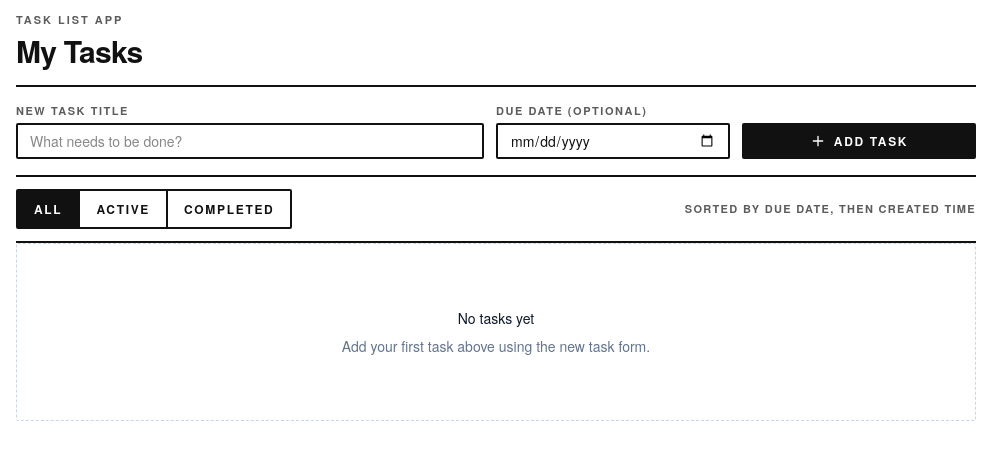
Test: Tasks screen › [AC-017] submitting with an empty title shows 'Title is required' and creates no task
Click the button "Add Task" at (859, 141), box left=742, top=123, right=976, bottom=159
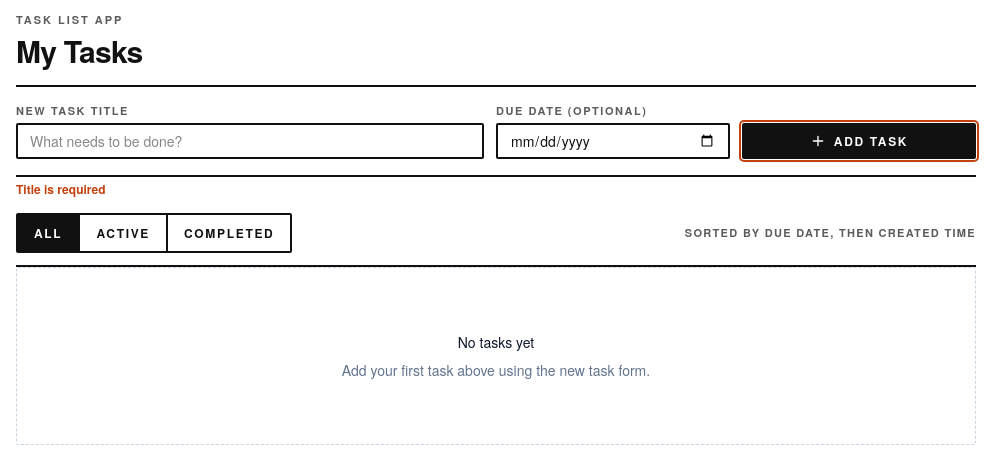
Now the text "Title is required" is shown, box left=16, top=180, right=106, bottom=198
